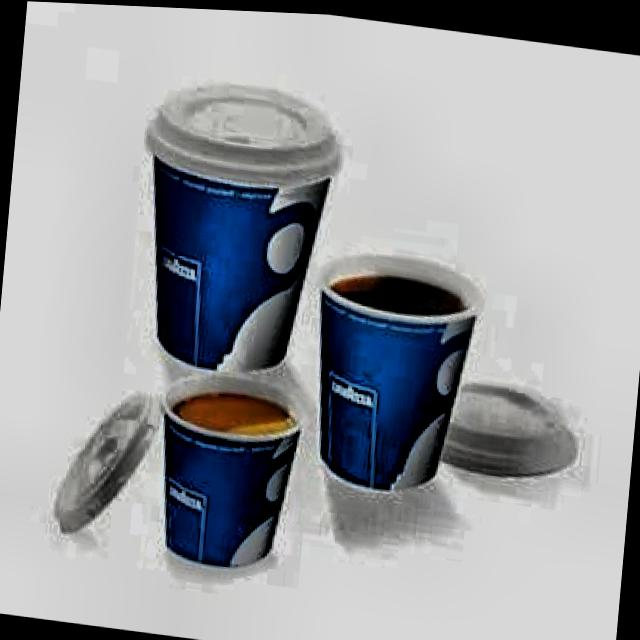Cup: (104, 117, 336, 394), (302, 242, 484, 497), (148, 367, 312, 583)
